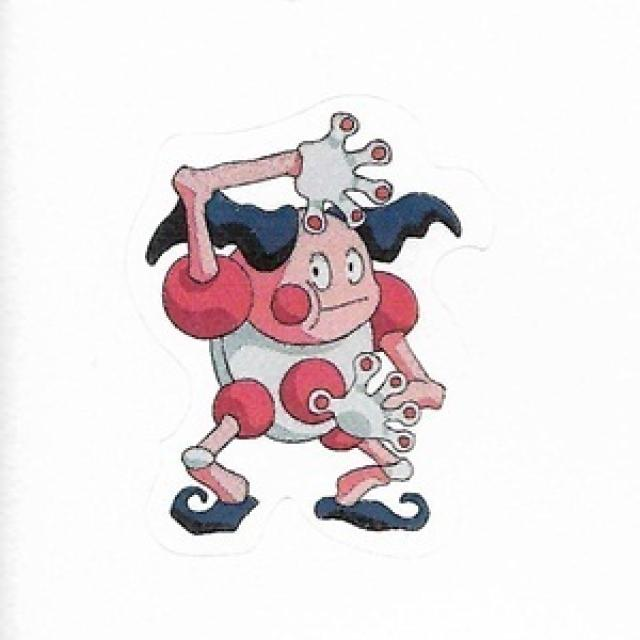MrMime: (171, 157, 420, 528)
